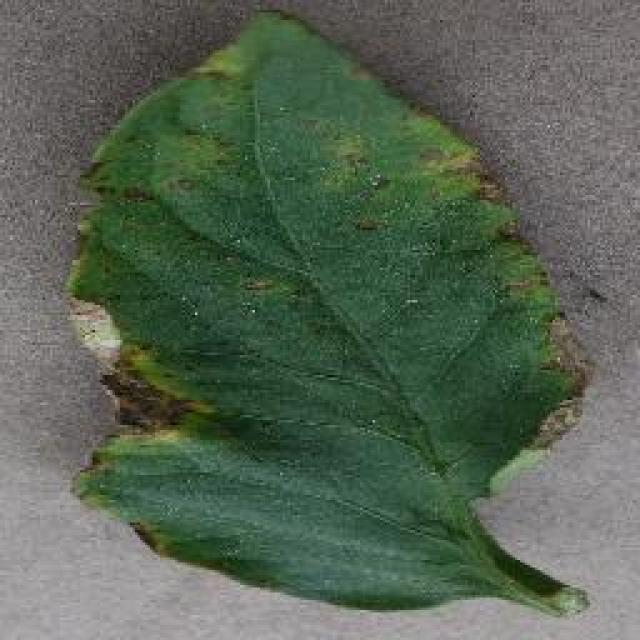Tomato___Bacterial_spot: (53, 12, 599, 618)
